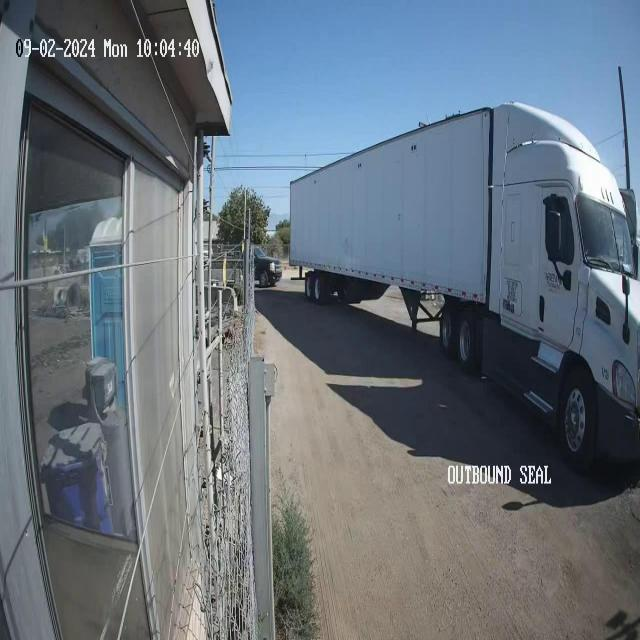TRUCK_IN: (288, 100, 640, 473)
